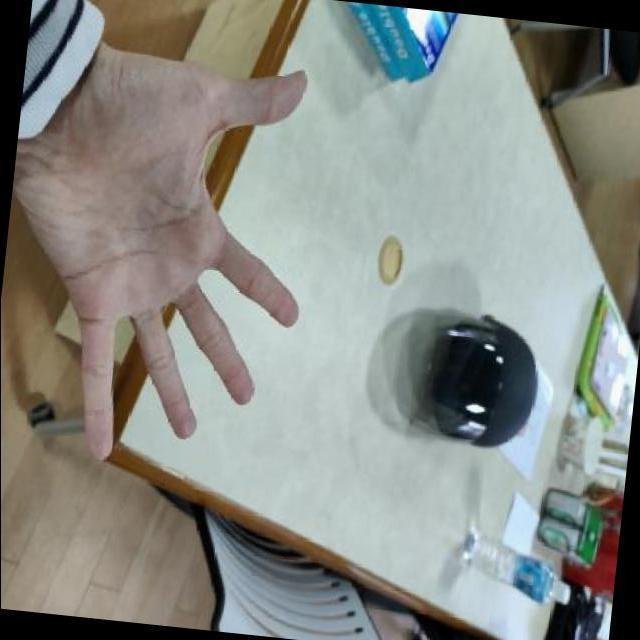hand: (0, 8, 351, 497)
